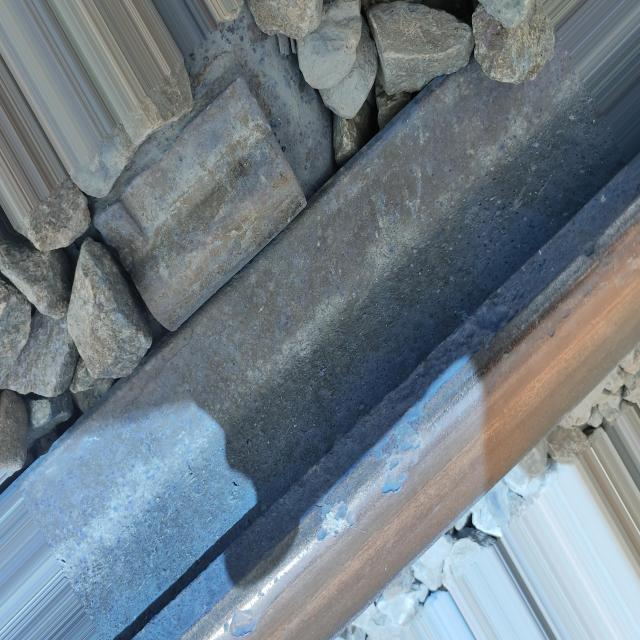Missing Fastener: (71, 36, 349, 342)
